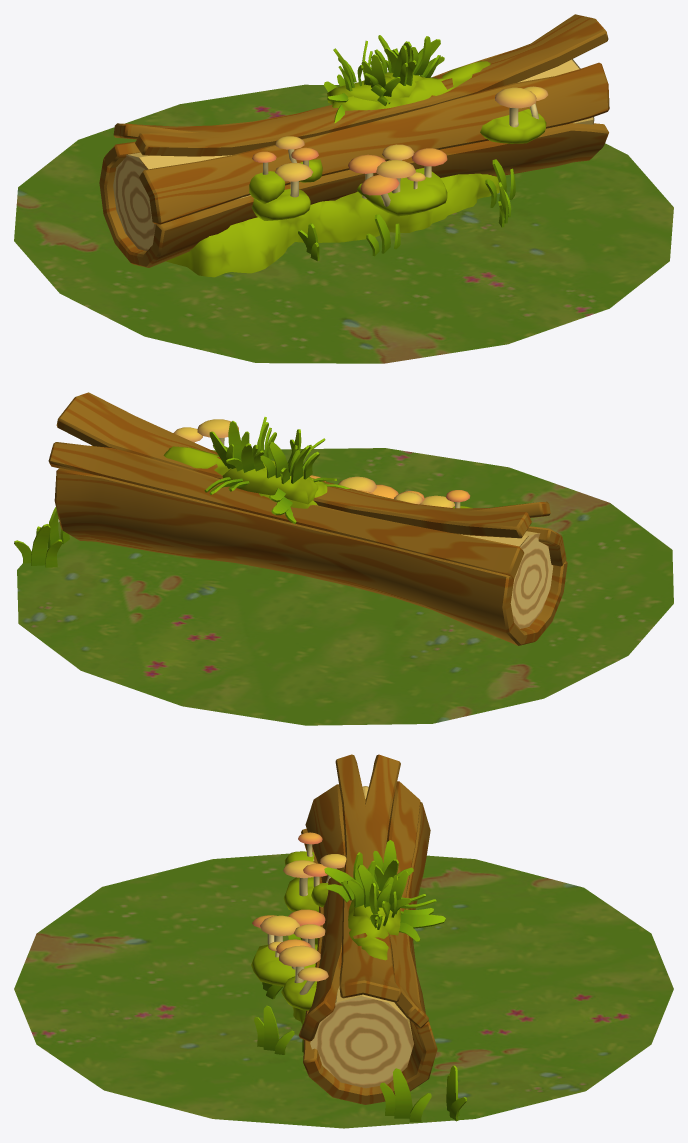
File: cartoon_fallen_tree.glb
3 views of the same model, one above another, from view 1: azimuth 30°, elevation 25°; view 2: azimuth 150°, elevation 25°; view 3: azimuth 270°, elevation 25° (orthographic).
Parts seen in each view (by area): view 1: floor_5, log_main_99, moss_72, log_inside_01_21, moss_with grass_98, mushroom3_33, grass4_13, particle7_93, grass2_9, mushroom7_43, particle4_87, mushroom8_45 (+5 smaller); view 2: floor_5, log_main_99, log_inside_01_21, moss_with grass_98, moss_72, grass6_17, particle5_89, particle3_85, particle1_77, mushroom3_33; view 3: floor_5, log_main_99, log_inside.001_19, moss_72, grass5_15, grass1_7, particle_75, particle4_87, mushroom3_33, grass6_17, mushroom8_45, moss_with grass_98.
Part boxes in pixels (x1,y1,x2,y2): floor_5: (14,84,673,363); log_main_99: (99,14,609,267); moss_72: (166,61,546,277); log_inside_01_21: (113,152,250,250); moss_with grass_98: (327,72,423,104); mushroom3_33: (495,87,536,108); grass4_13: (366,214,400,256); particle7_93: (361,54,400,96); grass2_9: (485,159,515,207); mushroom7_43: (360,174,399,195); particle4_87: (384,41,416,85); mushroom8_45: (376,160,415,178); floor_5: (17,448,673,725); log_main_99: (48,392,567,645); log_inside_01_21: (461,531,553,628); moss_with grass_98: (222,460,318,504); moss_72: (163,446,472,508); grass6_17: (14,524,62,567); particle5_89: (260,442,300,478); particle3_85: (280,445,319,483); particle1_77: (226,443,264,472); mushroom3_33: (197,419,238,437); floor_5: (14,853,673,1128); log_main_99: (298,754,437,1104); log_inside.001_19: (310,986,413,1088); moss_72: (251,851,388,1024); grass5_15: (380,1068,431,1121); grass1_7: (254,1005,294,1054); particle_75: (399,908,445,941); particle4_87: (347,865,393,907); mushroom3_33: (279,945,320,966); grass6_17: (446,1065,466,1121); mushroom8_45: (260,915,299,936); moss_with grass_98: (353,887,400,935).
Bounding box in the file's own units: 365 × 115 × 365.
48 materials, 48 textured.
